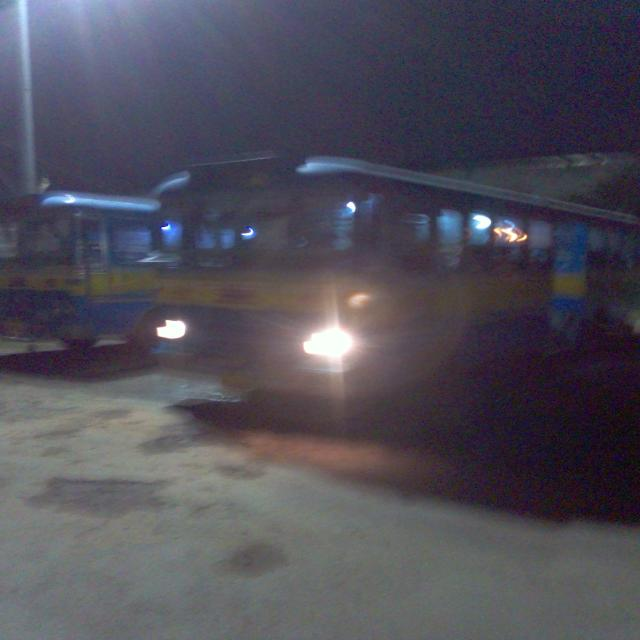Bus: (0, 156, 638, 418)
